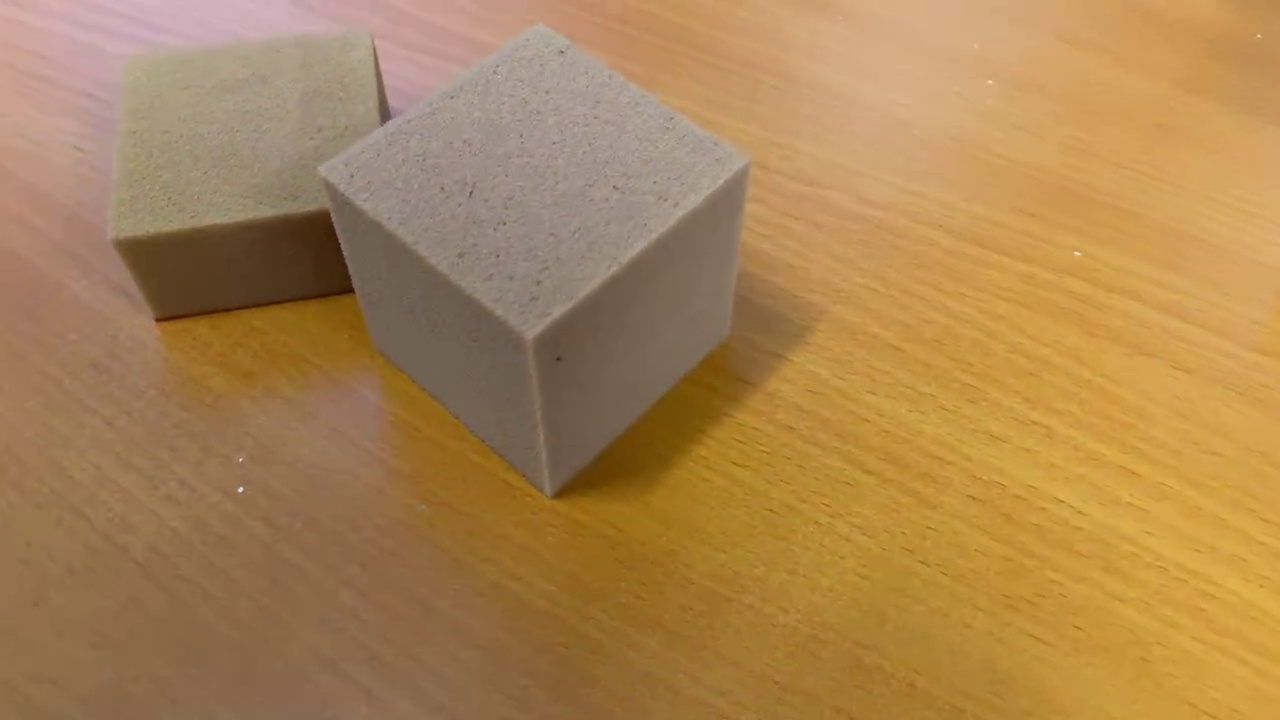Cube: (306, 12, 753, 505)
Cube_short: (110, 35, 399, 331)
